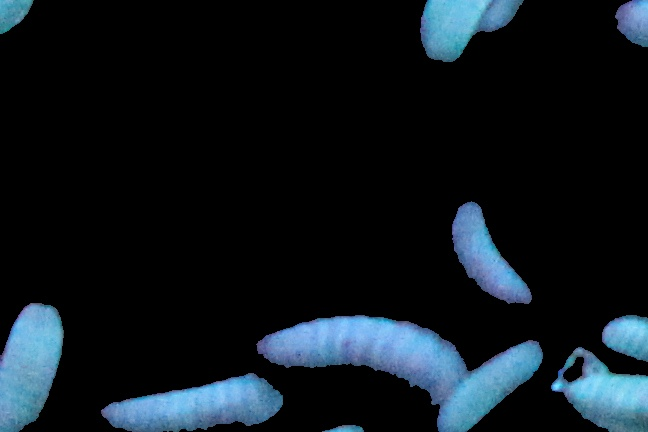larvae: (255, 307, 466, 398), (433, 342, 549, 432), (99, 376, 280, 432), (448, 199, 533, 305), (1, 299, 63, 430), (553, 369, 648, 430), (422, 1, 487, 63)
